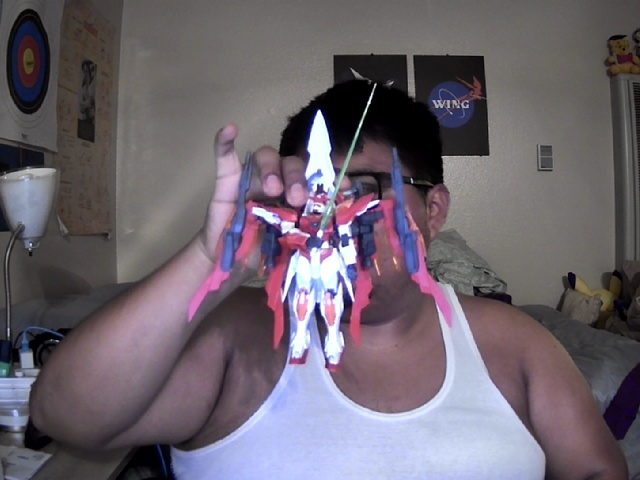Honoo: (187, 109, 454, 369)
